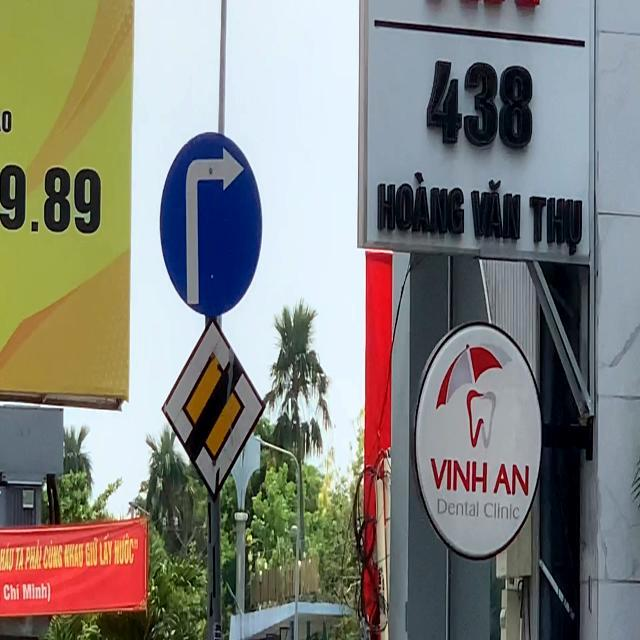Cac xe chi duoc re phai: (160, 130, 268, 318)
